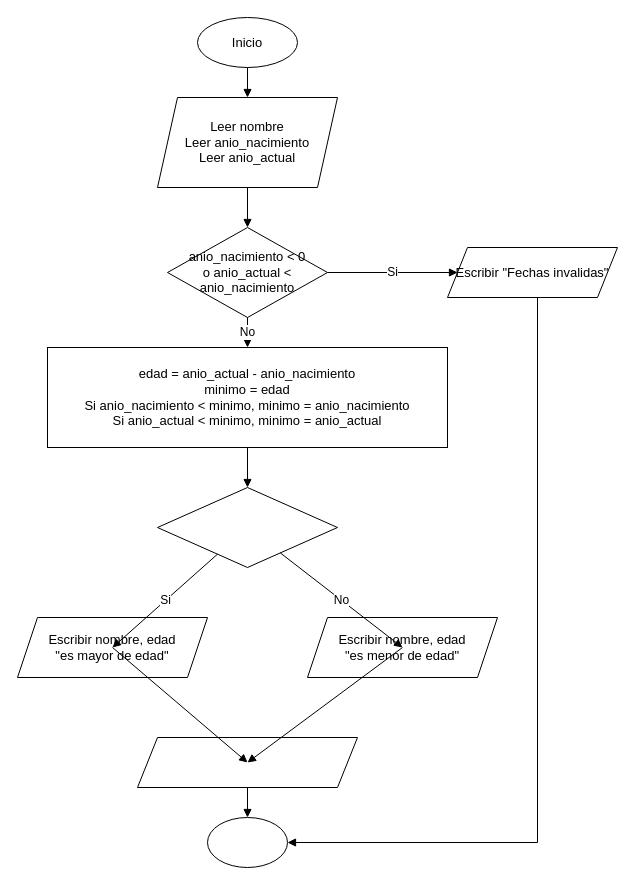
This 635x885 diagram has some shape labels left out. The shapes that lost their labels are listed below. From the top down, each one's centre as x and y in pixels, then its label:
[247,527]: edad >= MAYORIA_EDAD
[247,762]: Escribir "Valor minimo: ", minimo
[247,842]: Fin
